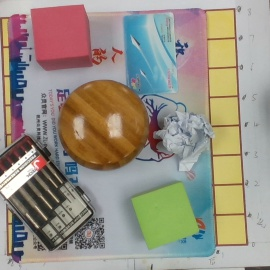card: (123, 13, 179, 92)
chess: (58, 82, 150, 171)
